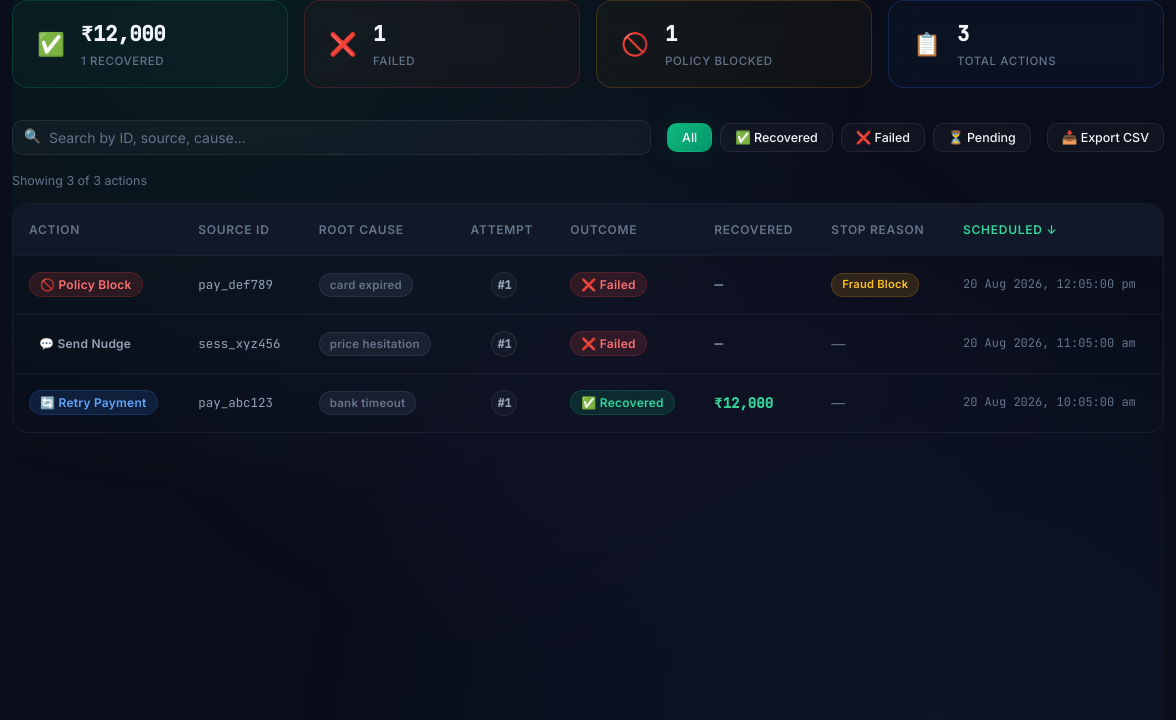
ActionsView › FE-ACT-11: search by action_type filters rows
expect the text "pay_abc123" is shown: met, box top-left (182, 373), bottom-right (303, 432)
In the field with placeholder "Search by ID, source, cause...": (332, 137) top-left (12, 120), bottom-right (651, 155), type "send_nudge"
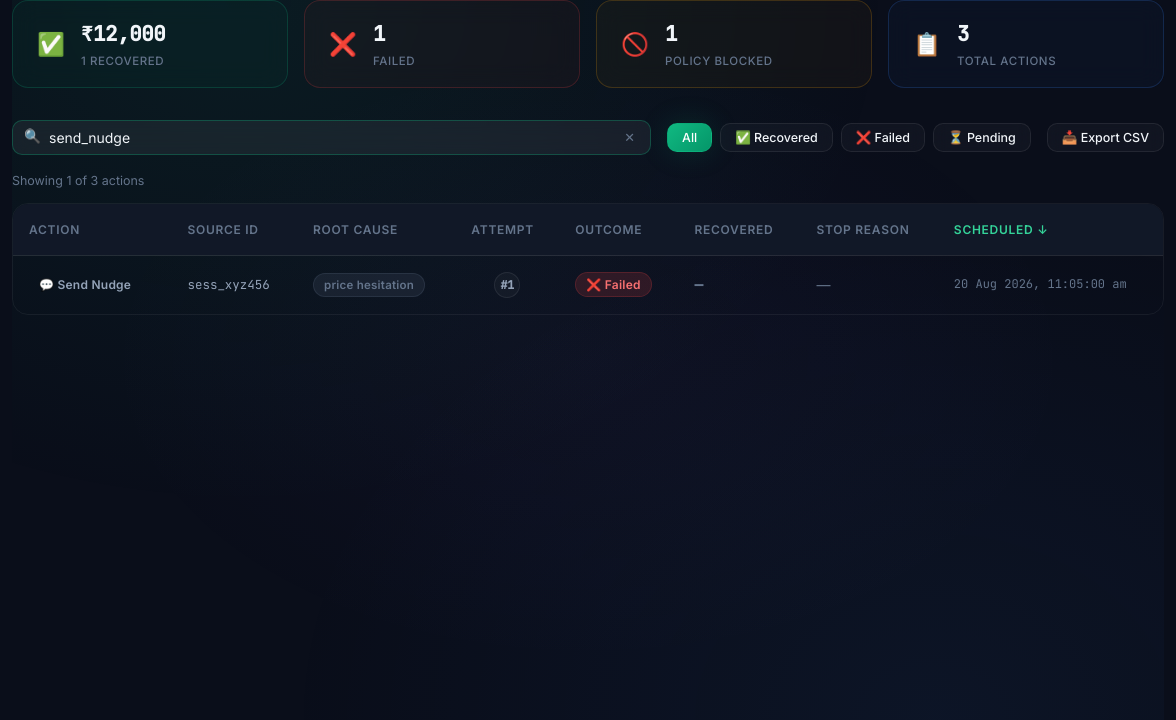
expect the text "sess_xyz456" is shown: met, box top-left (172, 255), bottom-right (297, 314)
expect the text "pay_abc123" is gone: met
